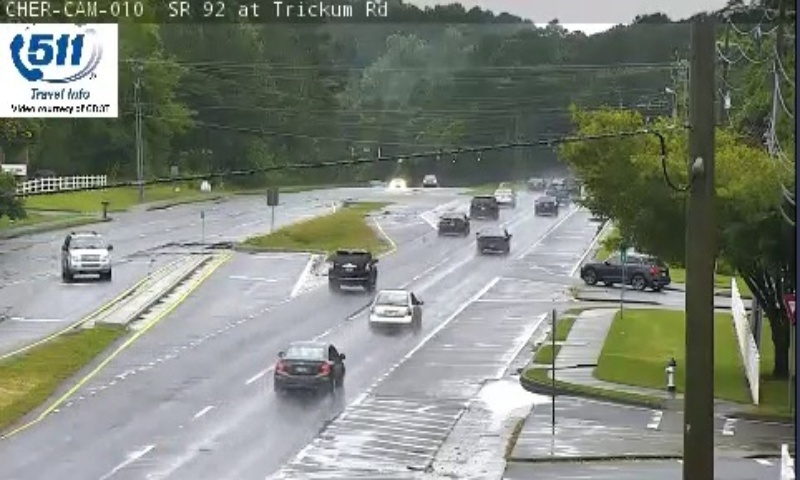car: (275, 341, 343, 387), (370, 288, 419, 330), (328, 249, 377, 286), (437, 211, 470, 238), (475, 229, 510, 252), (469, 194, 497, 220), (534, 194, 559, 216)
